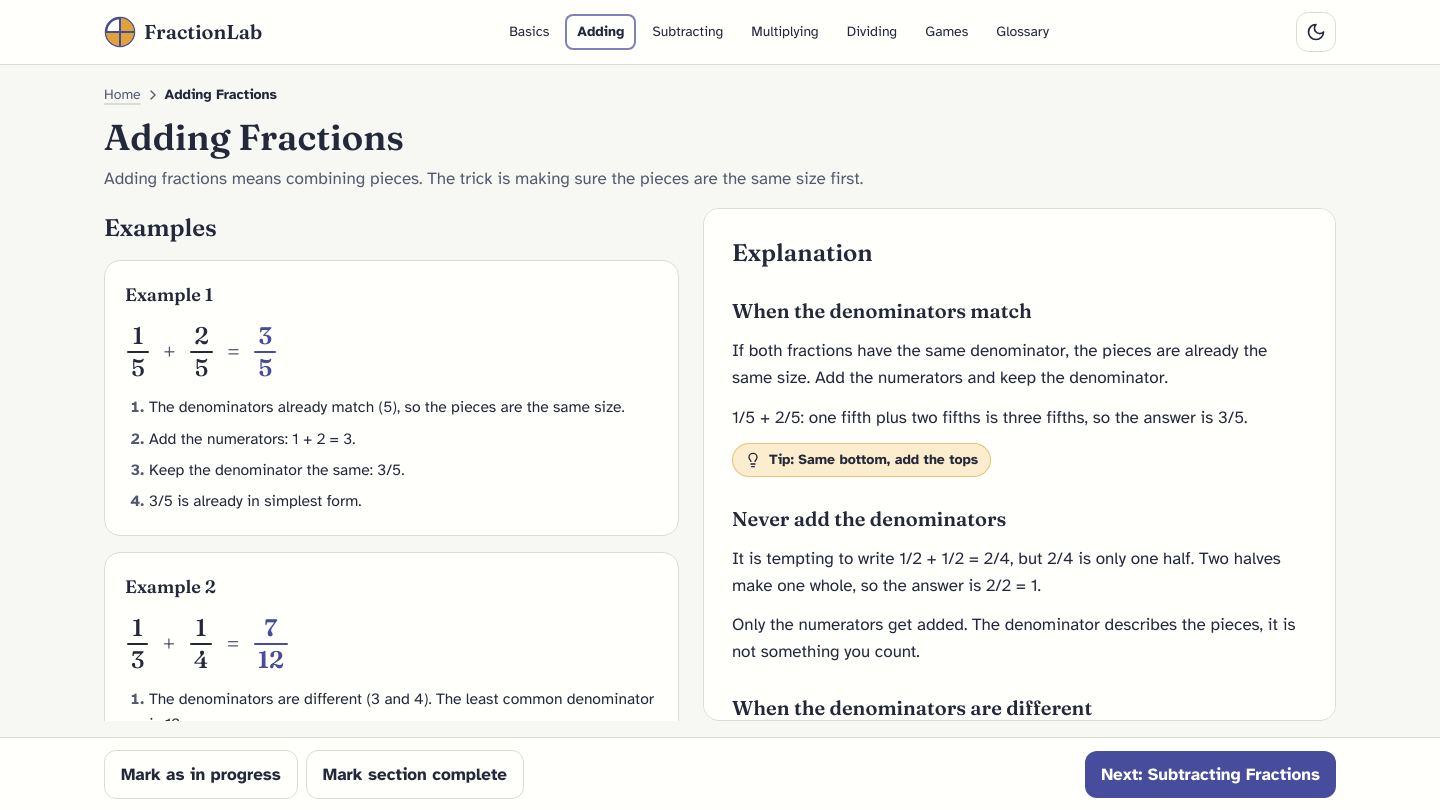
Test: App › lets you complete a section, which replaces in progress
The image size is (1440, 810).
Click the button "Mark as in progress".
click(201, 774)  # box [104, 750, 298, 799]
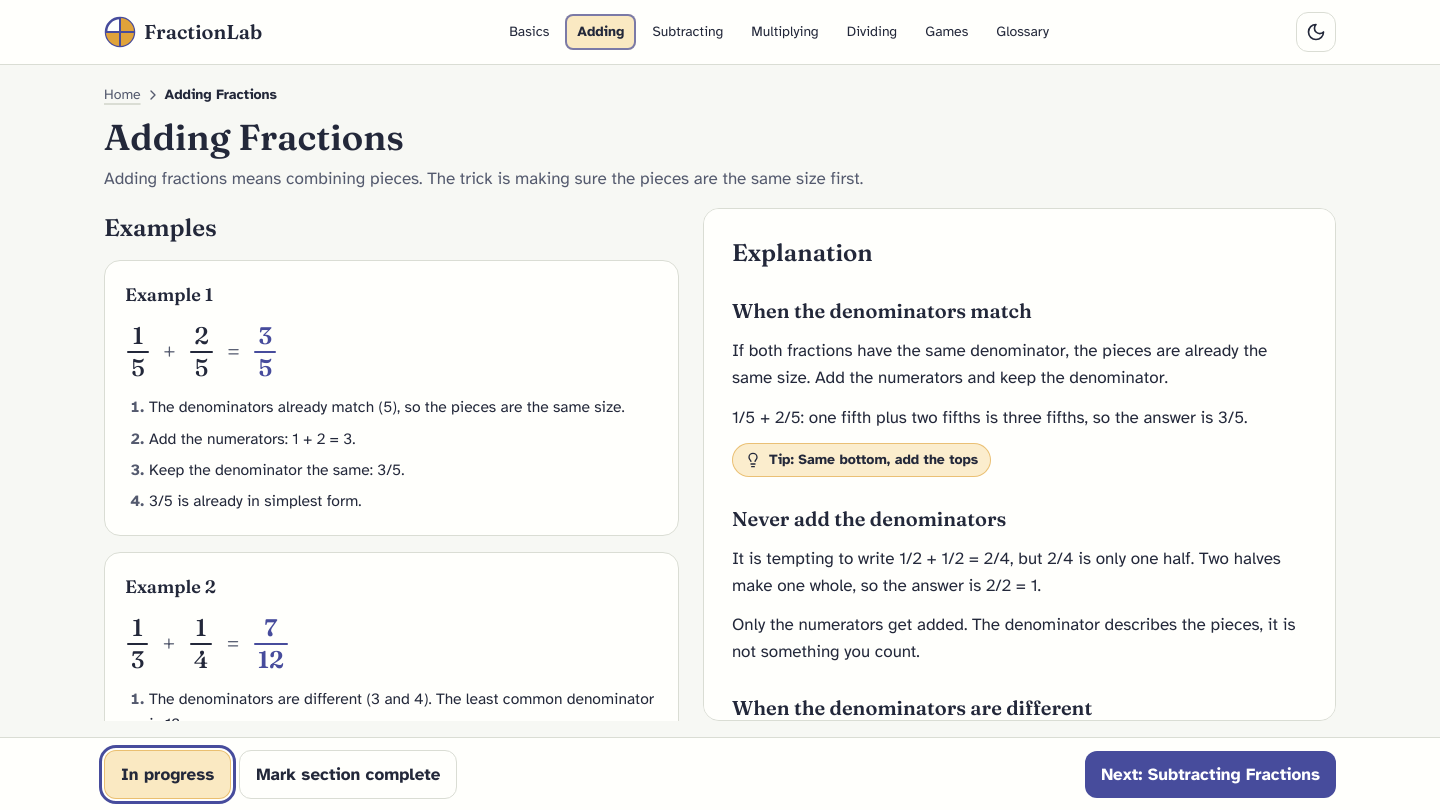
Click the button "Mark section complete".
click(348, 774)  # box [239, 750, 457, 799]
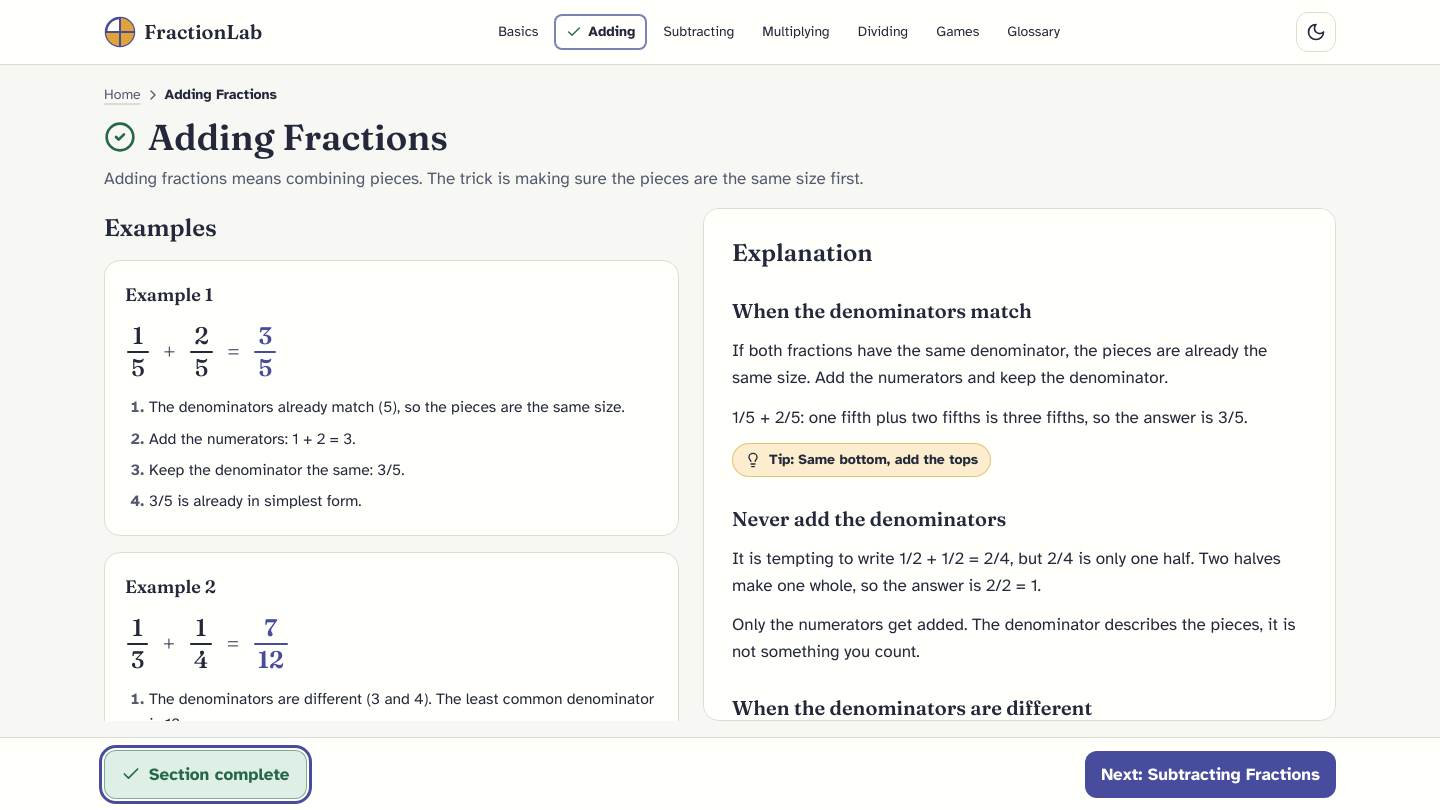
Expected: the heading "Adding Fractions" is shown, [103, 115, 448, 194]
Result: the button "In progress" is gone
